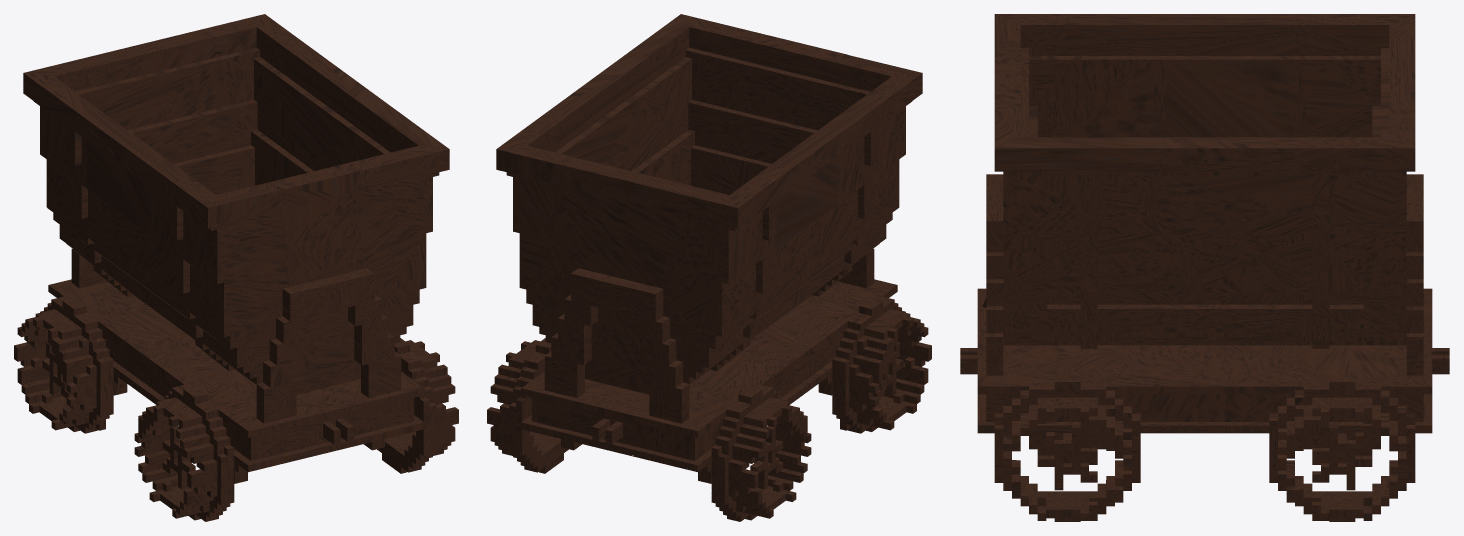
File: CartCracked.dae
3 views of the same model, side by side, from view 1: azimuth 30°, elevation 25°; view 2: azimuth 150°, elevation 25°; view 3: azimuth 270°, elevation 25° (orthographic). The views are drawn at different scales.
Visible parts, largest first — view 1: Minecart_cell.030, Minecart_cell.042, Minecart_cell.025, Minecart_cell.029, Minecart_cell.044, Minecart_cell.053, Minecart_cell.034, Minecart_cell.015, Minecart_cell.037, Minecart_cell.083, Minecart_cell.013, Minecart_cell.003 (+36 smaller); view 2: Minecart_cell.042, Minecart_cell.038, Minecart_cell.053, Minecart_cell.044, Minecart_cell.025, Minecart_cell.112, Minecart_cell.030, Minecart_cell.029, Minecart_cell.083, Minecart_cell.037, Minecart_cell.015, Minecart_cell.003 (+33 smaller); view 3: Minecart_cell.029, Minecart_cell.037, Minecart_cell.053, Minecart_cell.083, Minecart_cell.066, Minecart_cell.052, Minecart_cell.003, Minecart_cell.046, Minecart_cell.025, Minecart_cell.057, Minecart_cell.015, Minecart_cell.030 (+31 smaller).
Boxes of the visible parts, left/top/right/bottom form: Minecart_cell.030: left=173, top=181, right=293, bottom=341; Minecart_cell.042: left=74, top=29, right=230, bottom=157; Minecart_cell.025: left=338, top=158, right=432, bottom=301; Minecart_cell.029: left=274, top=54, right=373, bottom=173; Minecart_cell.044: left=267, top=159, right=363, bottom=289; Minecart_cell.053: left=23, top=60, right=97, bottom=206; Minecart_cell.034: left=183, top=307, right=308, bottom=405; Minecart_cell.015: left=201, top=14, right=290, bottom=123; Minecart_cell.037: left=77, top=118, right=153, bottom=283; Minecart_cell.083: left=354, top=94, right=449, bottom=177; Minecart_cell.013: left=340, top=361, right=424, bottom=448; Minecart_cell.003: left=145, top=181, right=195, bottom=311; Minecart_cell.042: left=553, top=156, right=697, bottom=310; Minecart_cell.038: left=521, top=313, right=666, bottom=455; Minecart_cell.053: left=668, top=166, right=792, bottom=336; Minecart_cell.044: left=739, top=36, right=847, bottom=158; Minecart_cell.025: left=660, top=28, right=771, bottom=160; Minecart_cell.112: left=659, top=324, right=740, bottom=470; Minecart_cell.030: left=833, top=55, right=922, bottom=233; Minecart_cell.029: left=551, top=69, right=641, bottom=169; Minecart_cell.083: left=606, top=14, right=741, bottom=121; Minecart_cell.037: left=770, top=147, right=849, bottom=288; Minecart_cell.015: left=496, top=130, right=570, bottom=238; Minecart_cell.003: left=821, top=91, right=888, bottom=263; Minecart_cell.029: left=1142, top=137, right=1334, bottom=266; Minecart_cell.037: left=1145, top=35, right=1306, bottom=137; Minecart_cell.053: left=1292, top=14, right=1415, bottom=137; Minecart_cell.083: left=994, top=108, right=1165, bottom=214; Minecart_cell.066: left=1076, top=210, right=1202, bottom=328; Minecart_cell.052: left=1253, top=238, right=1397, bottom=344; Minecart_cell.003: left=1064, top=14, right=1165, bottom=137; Minecart_cell.046: left=1106, top=351, right=1231, bottom=433; Minecart_cell.025: left=986, top=97, right=1100, bottom=276; Minecart_cell.057: left=1065, top=14, right=1300, bottom=62; Minecart_cell.015: left=1331, top=112, right=1415, bottom=226; Minecart_cell.030: left=987, top=14, right=1076, bottom=178.
Bounding box in the file's own units: 4.66 × 6.48 × 5.57.
1 material, 1 textured.
